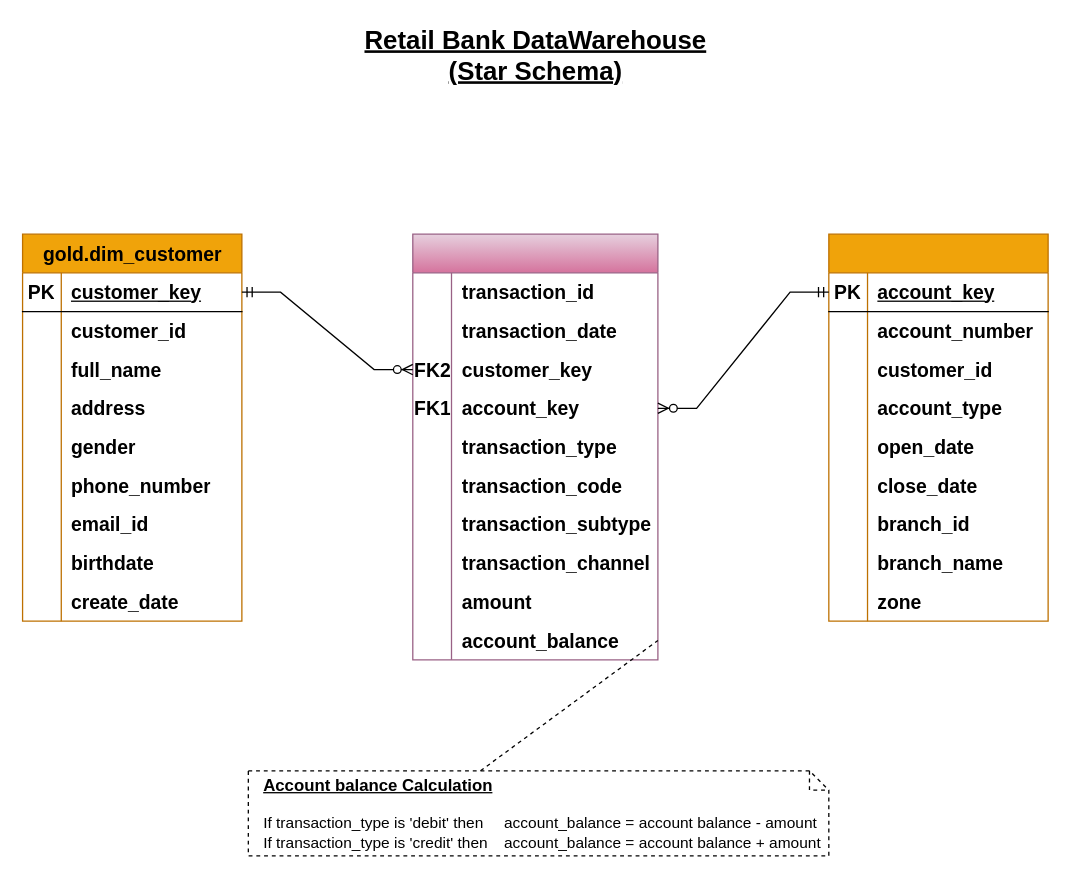
Image size: 1071x878. Some labels were removed from this diagram. The box of each missing label's shape, as (x1, y1, x2, y2) in pixels:
gold.dim_account: (828, 233, 1048, 621)
gold.fact_transaction: (412, 233, 658, 660)
